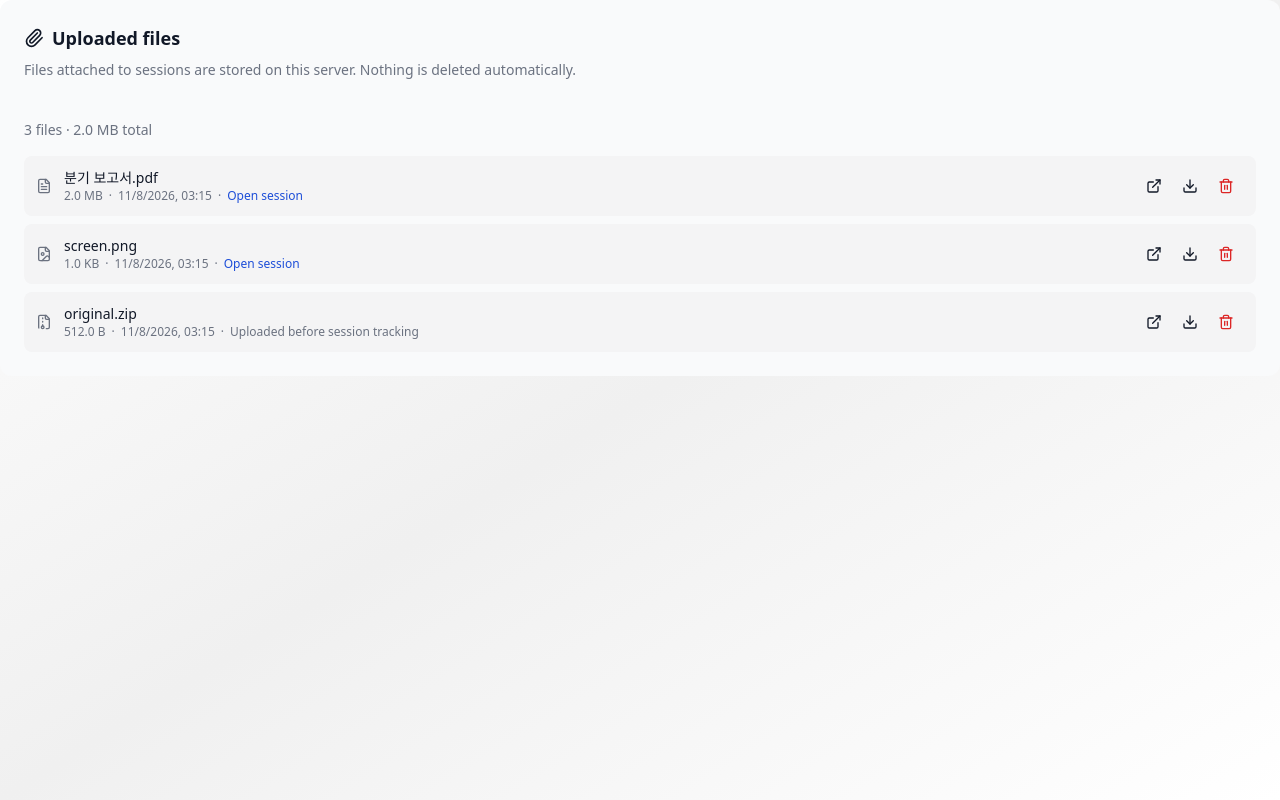
Scenario: UploadedFilesSettings › reports a failed delete with the file name
Click the button named "Delete screen.png" at (1226, 254), box 1208,236 -> 1244,272
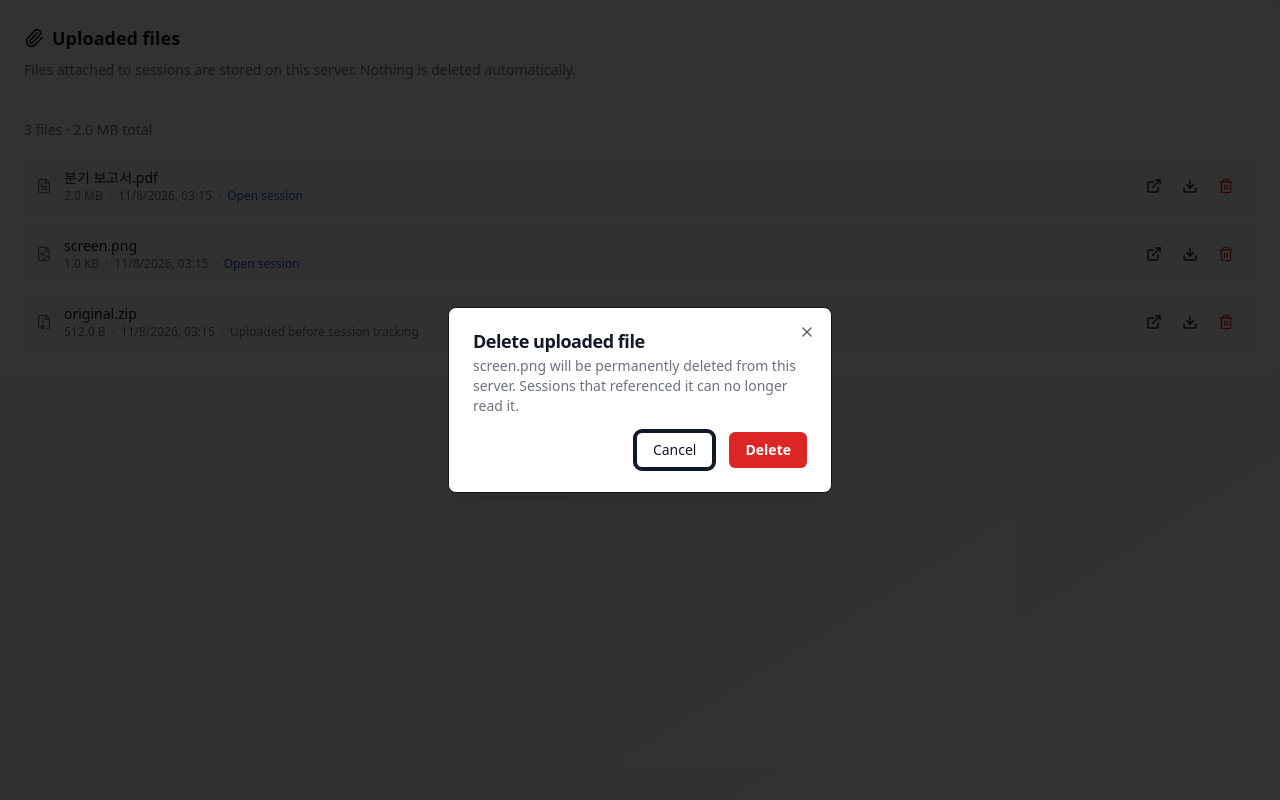
Click the button "Delete" at (768, 450), box 730,432 -> 807,468
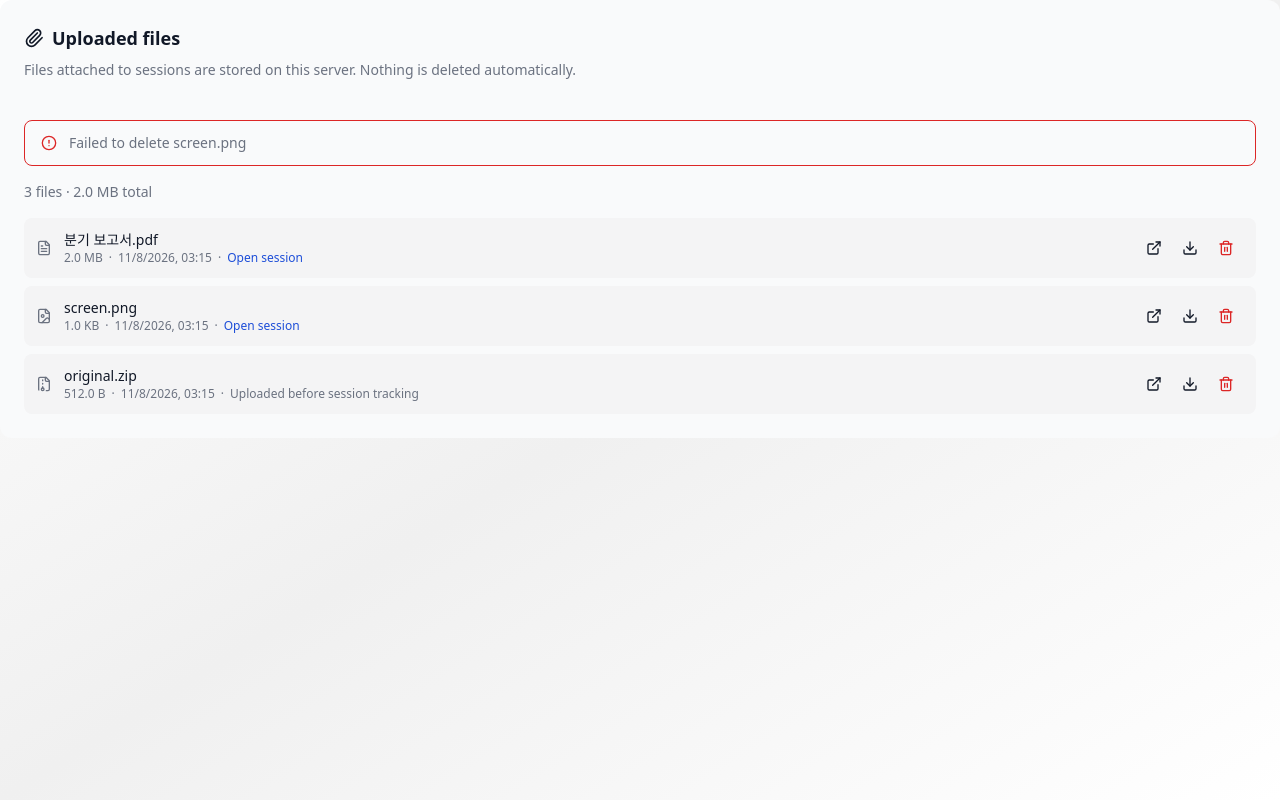
Expected: the text "Failed to delete screen.png" is shown, 69,133 -> 246,152
